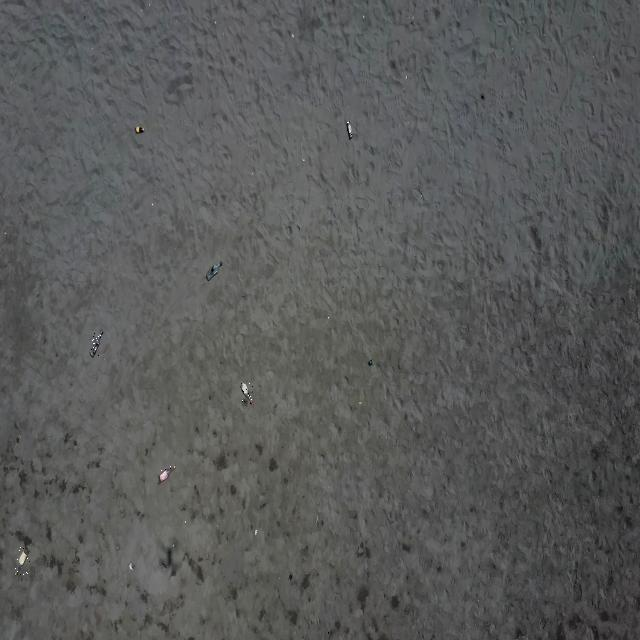glass: (15, 547, 30, 575), (206, 262, 222, 280), (91, 333, 103, 357), (241, 381, 253, 404), (160, 465, 176, 482), (346, 121, 354, 139), (135, 127, 145, 134), (368, 360, 374, 365)
